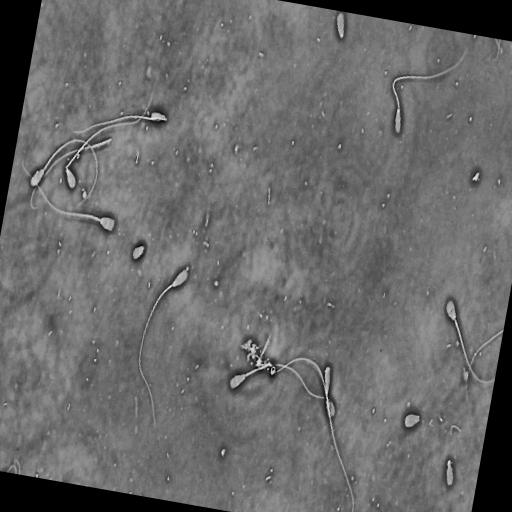dirt-particles: (239, 335, 277, 378)
folded-tail: (65, 96, 151, 169), (392, 47, 467, 106), (73, 115, 164, 133)
loose-head: (335, 11, 346, 41), (402, 412, 421, 429), (131, 242, 146, 263), (445, 455, 454, 488)
normal: (63, 88, 153, 191), (136, 266, 190, 431), (390, 43, 472, 139), (21, 157, 116, 234), (255, 354, 336, 421), (28, 136, 99, 208), (322, 362, 355, 512), (443, 296, 493, 385), (227, 361, 327, 400), (71, 107, 169, 136)
